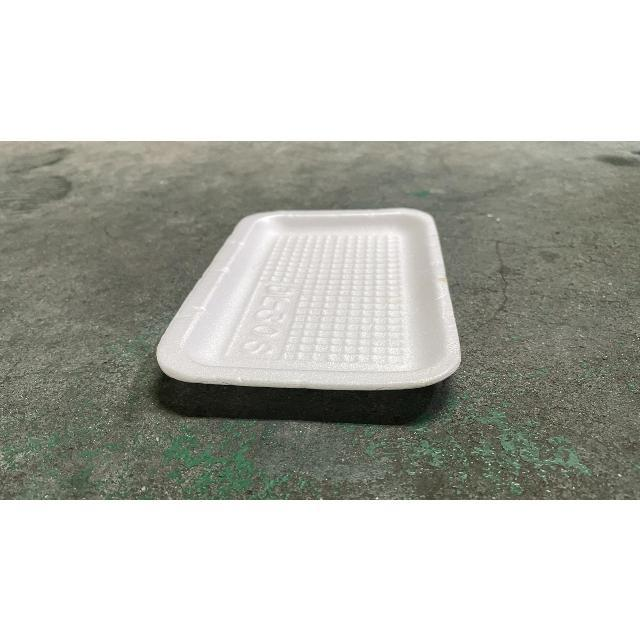Recipiente plastico: (158, 210, 460, 389)
